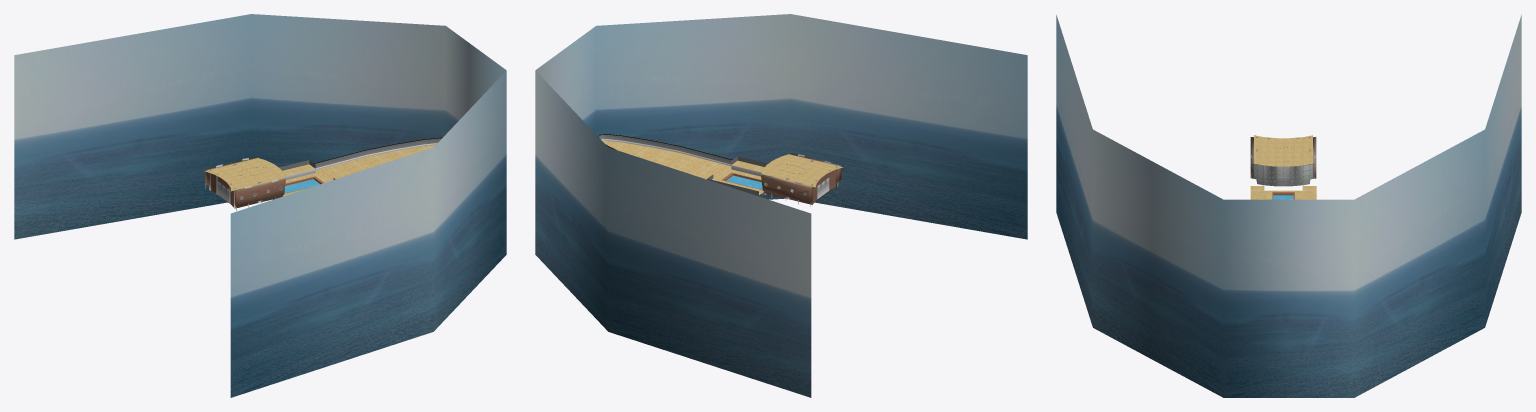
The model's file is FitnessStudioBoat.FBX.
3 views of the same model, side by side, from view 1: azimuth 30°, elevation 25°; view 2: azimuth 150°, elevation 25°; view 3: azimuth 270°, elevation 25° (orthographic). The views are drawn at different scales.
Parts seen in each view (by area): view 1: DEC_Walls; view 2: DEC_Walls; view 3: DEC_Walls.
Part boxes in pixels (x1,y1,x2,y2): DEC_Walls: [14, 14, 506, 397]; DEC_Walls: [535, 14, 1027, 397]; DEC_Walls: [1056, 15, 1521, 397].
Size of what is drawn, in the model's own units: 7724 by 8183 by 3848.
